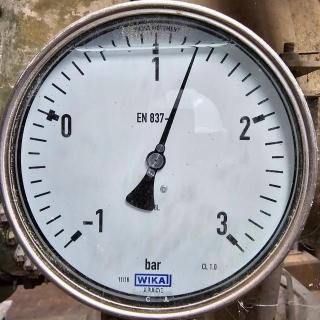gauge: (0, 0, 320, 320), (57, 205, 107, 258), (211, 220, 245, 252), (144, 150, 167, 172), (190, 44, 202, 56)
